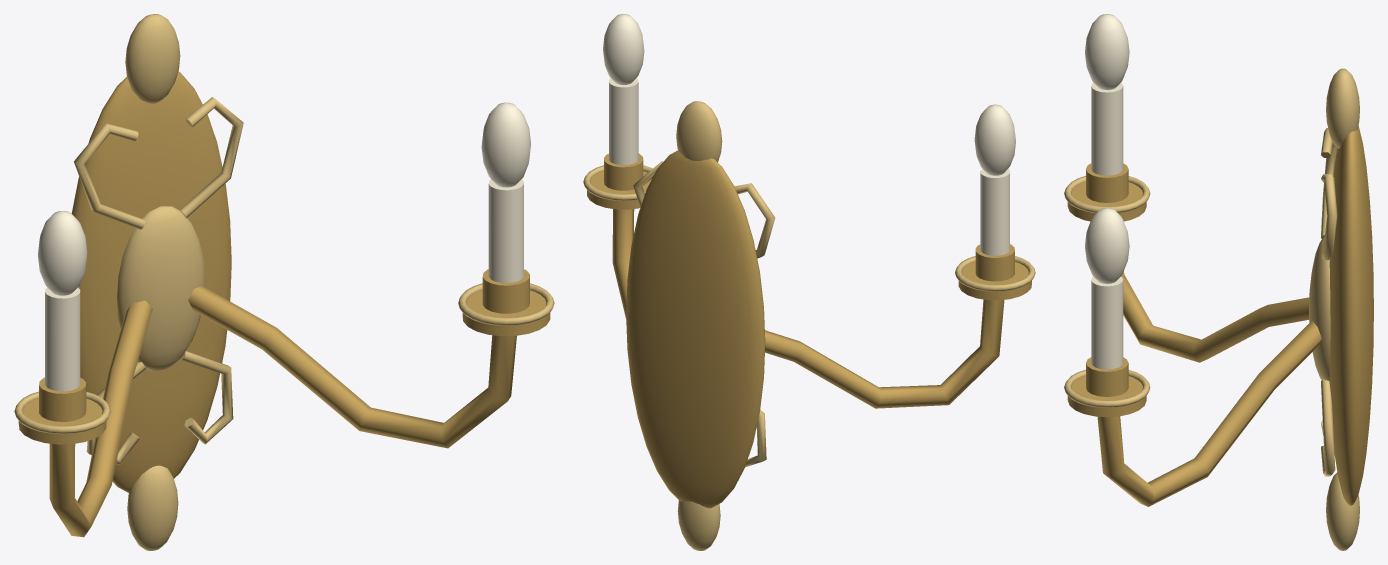
Rendered from fixture_baroque_double_sconce.glb.
3 renders of one model, left to right at view 1: azimuth 30°, elevation 25°; view 2: azimuth 150°, elevation 25°; view 3: azimuth 270°, elevation 25°, orthographic. The views are drawn at different scales.
Visible parts, largest first — view 1: Large Baroque oval wallplate, Baroque sweeping candle arm.001, Raised central wallplate medallion, Baroque sweeping candle arm, Upper wallplate acorn finial, Left Baroque candle ivory candle sleeve, Right Baroque candle ivory candle sleeve, Lower wallplate acorn finial, Right Baroque candle pointed opal bulb, Left Baroque candle pointed opal bulb, Wallplate scroll relief.001, Wallplate scroll relief (+7 smaller); view 2: Large Baroque oval wallplate, Baroque sweeping candle arm, Left Baroque candle ivory candle sleeve, Right Baroque candle ivory candle sleeve, Left Baroque candle pointed opal bulb, Right Baroque candle pointed opal bulb, Upper wallplate acorn finial, Lower wallplate acorn finial, Baroque sweeping candle arm.001, Left Baroque candle cup, Left Baroque candle lower socket, Right Baroque candle lower socket (+4 smaller); view 3: Large Baroque oval wallplate, Baroque sweeping candle arm.001, Baroque sweeping candle arm, Right Baroque candle ivory candle sleeve, Left Baroque candle ivory candle sleeve, Left Baroque candle pointed opal bulb, Right Baroque candle pointed opal bulb, Raised central wallplate medallion, Upper wallplate acorn finial, Lower wallplate acorn finial, Right Baroque candle cup, Right Baroque candle lower socket (+7 smaller).
Part boxes in pixels (x1,y1,x2,y2): Large Baroque oval wallplate: (71,71,231,492); Baroque sweeping candle arm.001: (188,286,516,448); Raised central wallplate medallion: (117,206,205,370); Baroque sweeping candle arm: (49,300,152,537); Upper wallplate acorn finial: (125,14,180,103); Left Baroque candle ivory candle sleeve: (45,287,80,391); Right Baroque candle ivory candle sleeve: (488,179,523,282); Lower wallplate acorn finial: (127,465,178,550); Right Baroque candle pointed opal bulb: (481,102,530,187); Left Baroque candle pointed opal bulb: (38,211,87,295); Wallplate scroll relief.001: (179,97,243,218); Wallplate scroll relief: (74,123,145,229); Large Baroque oval wallplate: (626,150,765,508); Baroque sweeping candle arm: (765,299,1004,408); Left Baroque candle ivory candle sleeve: (980,169,1009,255); Right Baroque candle ivory candle sleeve: (609,78,638,165); Left Baroque candle pointed opal bulb: (974,104,1015,175); Right Baroque candle pointed opal bulb: (603,14,644,84); Upper wallplate acorn finial: (676,101,722,162); Lower wallplate acorn finial: (677,500,720,550); Baroque sweeping candle arm.001: (612,209,634,318); Left Baroque candle cup: (958,262,1031,300); Left Baroque candle lower socket: (975,244,1014,281); Right Baroque candle lower socket: (604,153,643,190); Large Baroque oval wallplate: (1329,126,1373,505); Baroque sweeping candle arm.001: (1097,320,1321,506); Baroque sweeping candle arm: (1121,271,1309,362); Right Baroque candle ivory candle sleeve: (1091,276,1123,369); Left Baroque candle ivory candle sleeve: (1091,82,1123,175); Left Baroque candle pointed opal bulb: (1085,14,1129,89); Right Baroque candle pointed opal bulb: (1085,208,1129,283); Raised central wallplate medallion: (1309,237,1330,380); Upper wallplate acorn finial: (1326,68,1359,148); Lower wallplate acorn finial: (1326,472,1359,550); Right Baroque candle cup: (1067,376,1146,417); Right Baroque candle lower socket: (1086,357,1128,396).
Bounding box in the file's own units: 0.511 × 0.496 × 0.2905.
